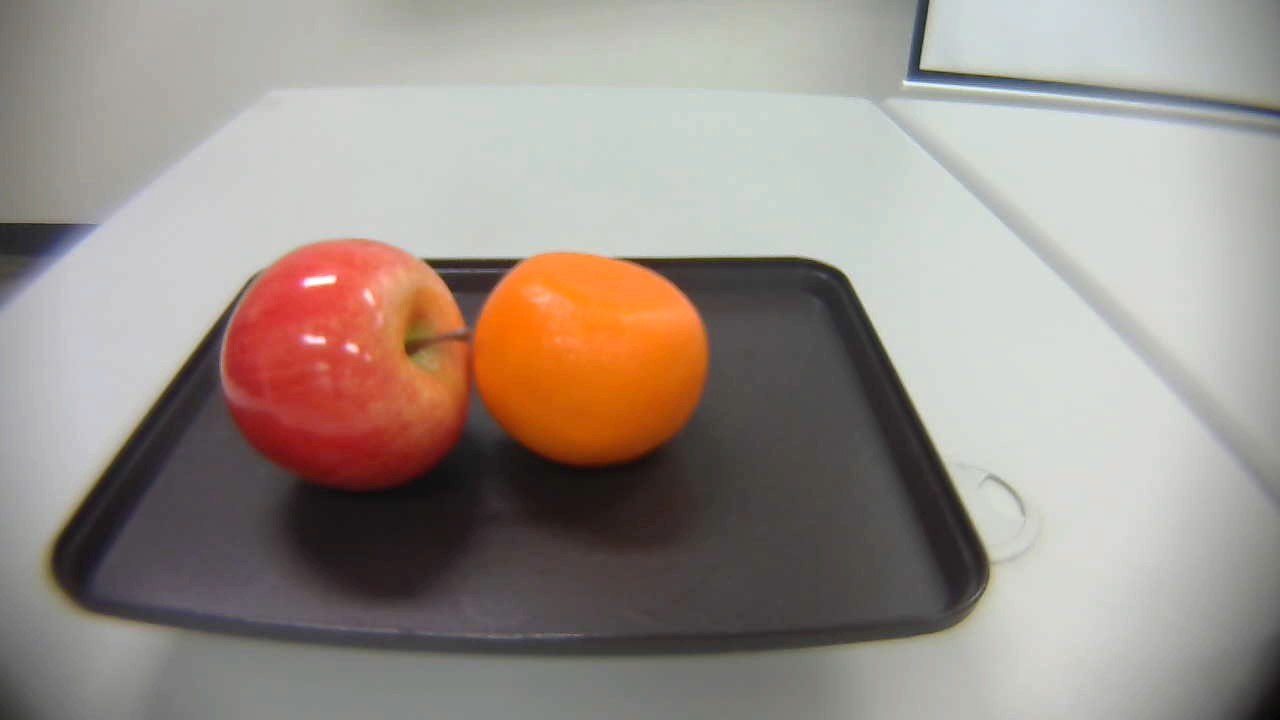orange: (468, 250, 712, 464)
red apple: (220, 238, 475, 498)
